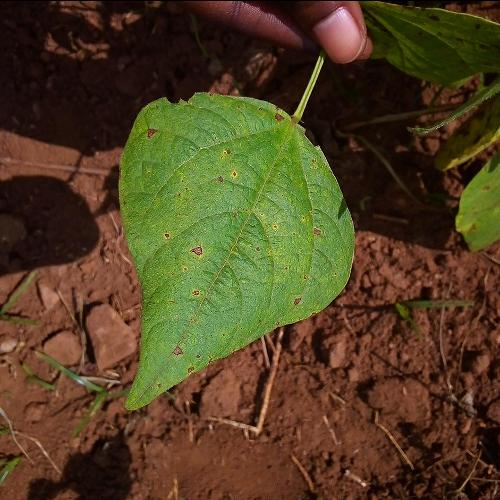hawar: (260, 100, 293, 125), (169, 337, 194, 366), (140, 116, 162, 144), (183, 281, 211, 301), (308, 219, 330, 243), (184, 240, 209, 259), (292, 294, 310, 306), (160, 229, 174, 244)
mozaik: (139, 150, 215, 225), (254, 141, 291, 287)
